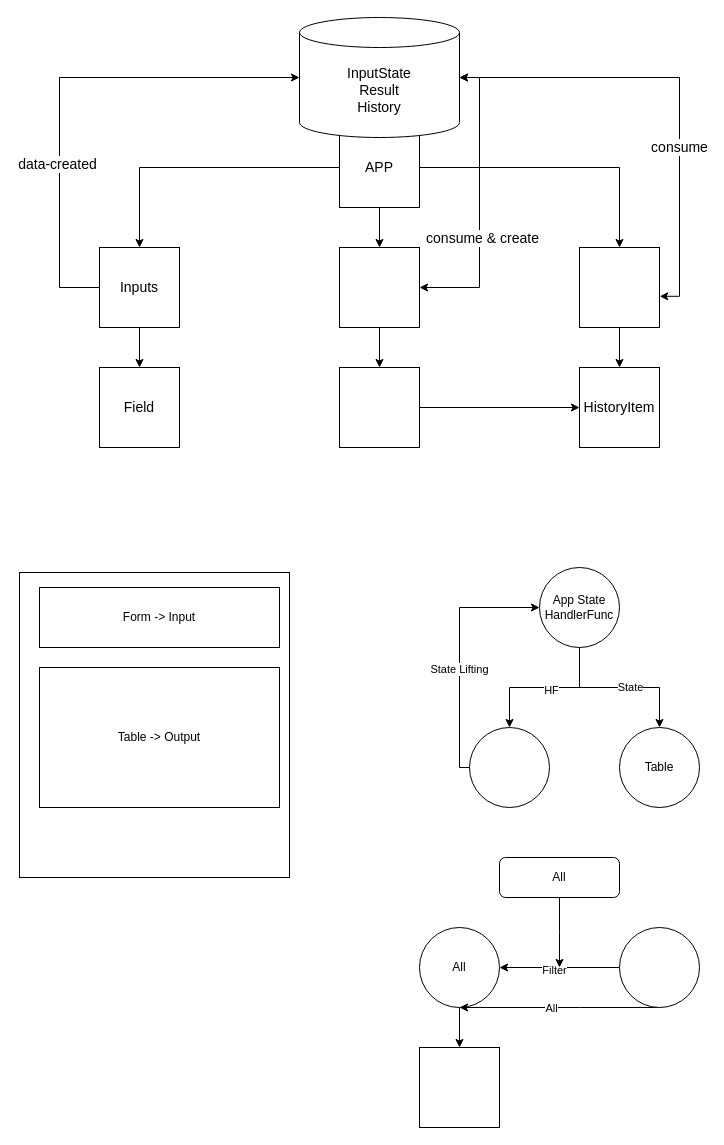
This 724x1145 diagram has some shape labels left out. The shapes that lost their labels are listed below. From the top down, each one's centre as x and y in pixels, then its label:
the point at 379,287: Operations
the point at 619,287: Hisotry
the point at 379,407: Button
the point at 509,767: Local State HF(LS)
the point at 659,967: Full
